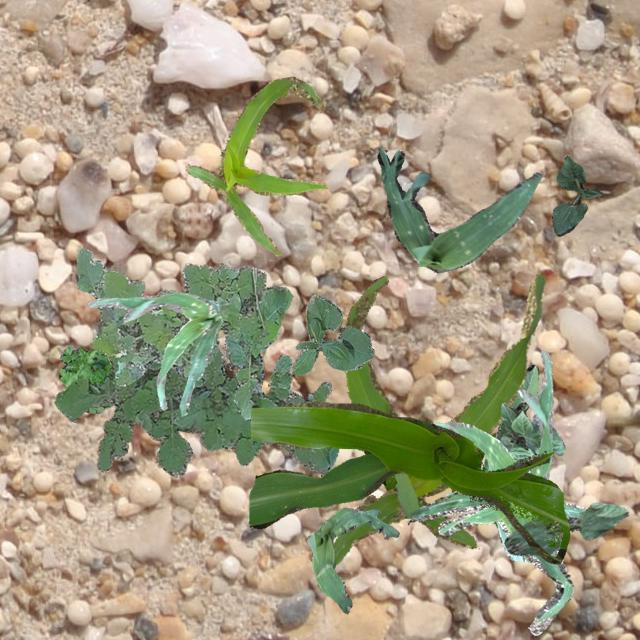crop: (332, 274, 544, 564), (247, 400, 568, 562), (408, 490, 586, 634), (185, 76, 326, 254), (377, 148, 540, 272), (86, 292, 222, 414), (432, 348, 552, 478), (482, 418, 560, 560), (306, 507, 398, 612), (290, 294, 372, 374), (504, 502, 626, 554), (550, 154, 602, 234), (498, 402, 564, 462), (497, 364, 538, 439)
weed: (52, 334, 338, 476), (76, 247, 292, 418), (382, 448, 484, 490), (59, 343, 112, 412)
